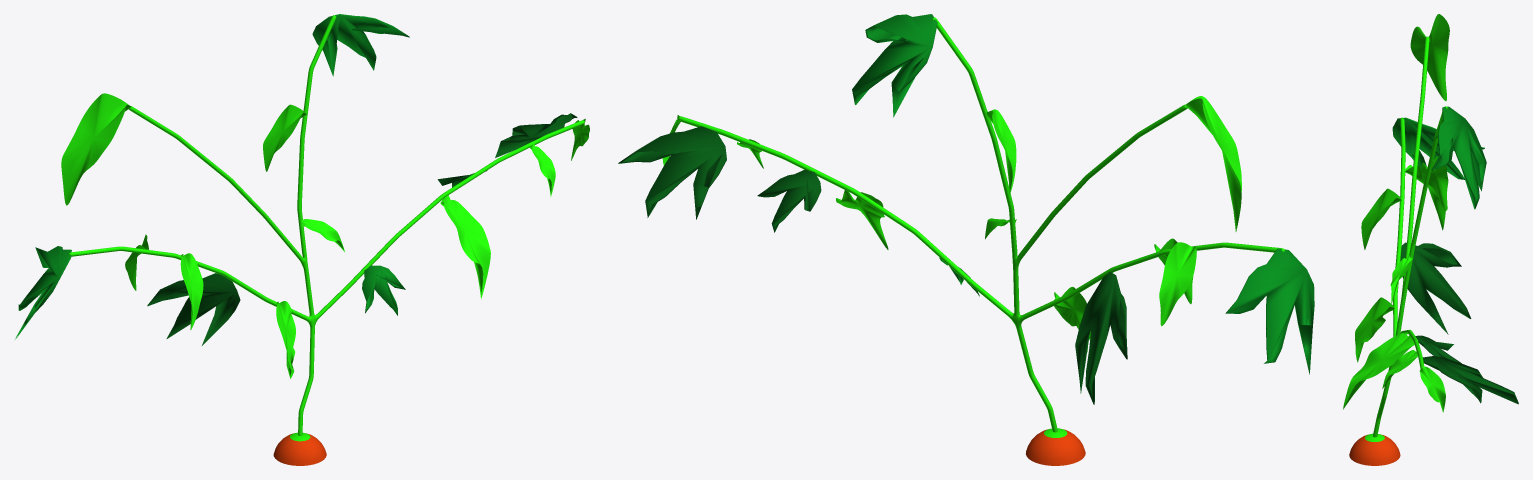
File: Carotte_Croissance_2.fbx
3 views of the same model, side by side, from view 1: azimuth 30°, elevation 25°; view 2: azimuth 150°, elevation 25°; view 3: azimuth 270°, elevation 25° (orthographic). The views are drawn at different scales.
Parts seen in each view (by area): view 1: Branche, Feuille_Base_1.008, Feuille_1.004, Feuille_1.002, Feuille_Base_1.001, Feuille_1.003, Sphere, Feuille_1.001, Feuille_1, Feuille_Base_1.006, Feuille_Base_1, Feuille_Base_1.003; view 2: Branche, Feuille_1.003, Feuille_1, Feuille_1.002, Feuille_1.004, Feuille_Base_1.008, Feuille_Base_1.002, Feuille_1.005, Sphere, Feuille_Base_1.006, Feuille_Base_1.001, Feuille_Base_1.003; view 3: Branche, Feuille_1.004, Feuille_1.002, Feuille_Base_1.008, Feuille_1, Feuille_Base_1.001, Feuille_1.003, Sphere, Feuille_Base_1.003, Feuille_Base_1, Feuille_Base_1.006, Feuille_Base_1.005 (+4 smaller).
Boxes of the visible parts, left/top/right/bottom form: Branche: left=68, top=15, right=584, bottom=435; Feuille_Base_1.008: left=61, top=93, right=131, bottom=205; Feuille_1.004: left=147, top=273, right=240, bottom=345; Feuille_1.002: left=312, top=14, right=409, bottom=76; Feuille_Base_1.001: left=440, top=195, right=490, bottom=298; Feuille_1.003: left=15, top=246, right=71, bottom=339; Sphere: left=273, top=432, right=326, bottom=465; Feuille_1.001: left=362, top=265, right=405, bottom=315; Feuille_1: left=495, top=113, right=577, bottom=157; Feuille_Base_1.006: left=263, top=104, right=306, bottom=171; Feuille_Base_1: left=180, top=253, right=203, bottom=329; Feuille_Base_1.003: left=276, top=301, right=295, bottom=378; Branche: left=678, top=17, right=1284, bottom=432; Feuille_1.003: left=1225, top=248, right=1314, bottom=374; Feuille_1: left=618, top=126, right=726, bottom=219; Feuille_1.002: left=852, top=14, right=937, bottom=117; Feuille_1.004: left=1075, top=272, right=1127, bottom=404; Feuille_Base_1.008: left=1185, top=96, right=1241, bottom=231; Feuille_Base_1.002: left=1159, top=242, right=1196, bottom=326; Feuille_1.005: left=757, top=169, right=821, bottom=232; Sphere: left=1026, top=428, right=1085, bottom=465; Feuille_Base_1.006: left=986, top=109, right=1016, bottom=194; Feuille_Base_1.001: left=836, top=189, right=888, bottom=249; Feuille_Base_1.003: left=1054, top=287, right=1090, bottom=352; Branche: left=1373, top=36, right=1447, bottom=437; Feuille_1.004: left=1400, top=242, right=1471, bottom=334; Feuille_1.002: left=1431, top=106, right=1486, bottom=209; Feuille_Base_1.008: left=1410, top=14, right=1449, bottom=101; Feuille_1: left=1422, top=356, right=1518, bottom=404; Feuille_Base_1.001: left=1343, top=333, right=1414, bottom=409; Feuille_1.003: left=1392, top=117, right=1484, bottom=179; Sphere: left=1349, top=433, right=1400, bottom=465; Feuille_Base_1.003: left=1355, top=297, right=1394, bottom=362; Feuille_Base_1: left=1361, top=188, right=1401, bottom=249; Feuille_Base_1.006: left=1421, top=156, right=1448, bottom=210; Feuille_Base_1.005: left=1419, top=366, right=1445, bottom=412.
Bounding box in the file's own units: 300 × 193 × 80.34.
